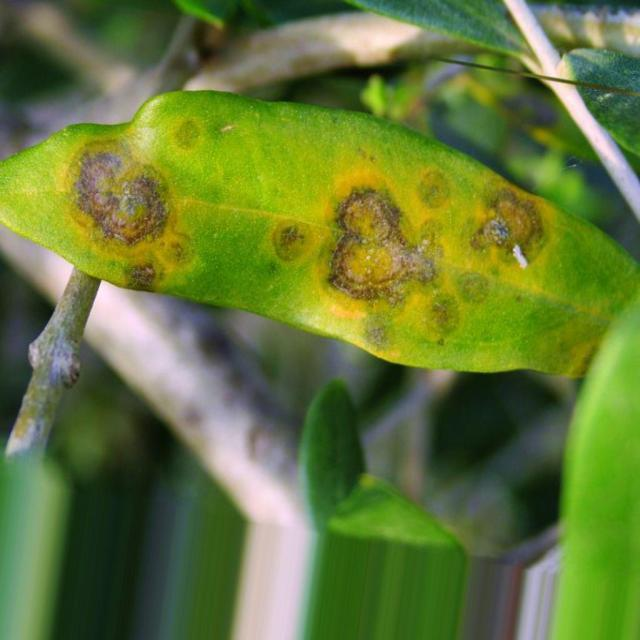OlivePeacockSpot: (0, 93, 614, 374)
